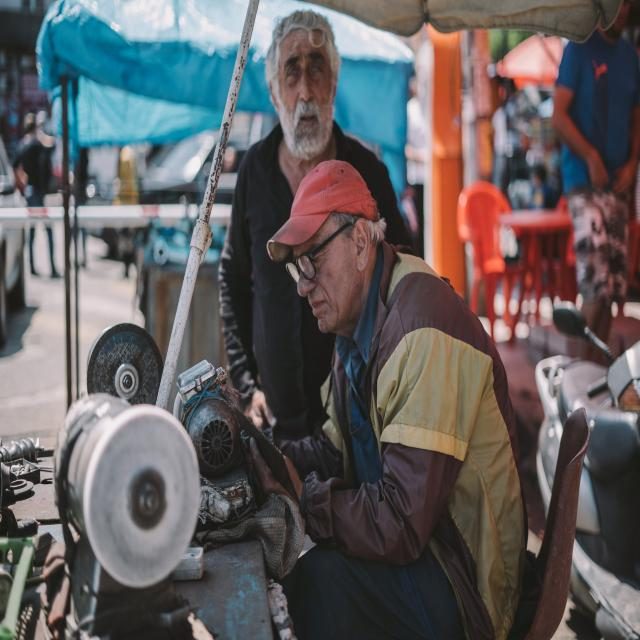adult: (251, 160, 528, 640), (218, 9, 404, 445)
